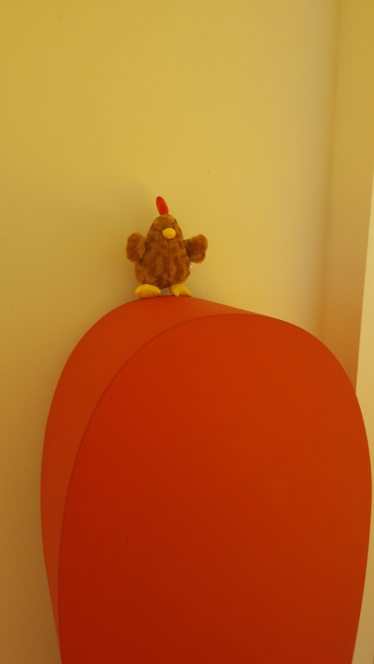chicken_front: (123, 197, 210, 298)
